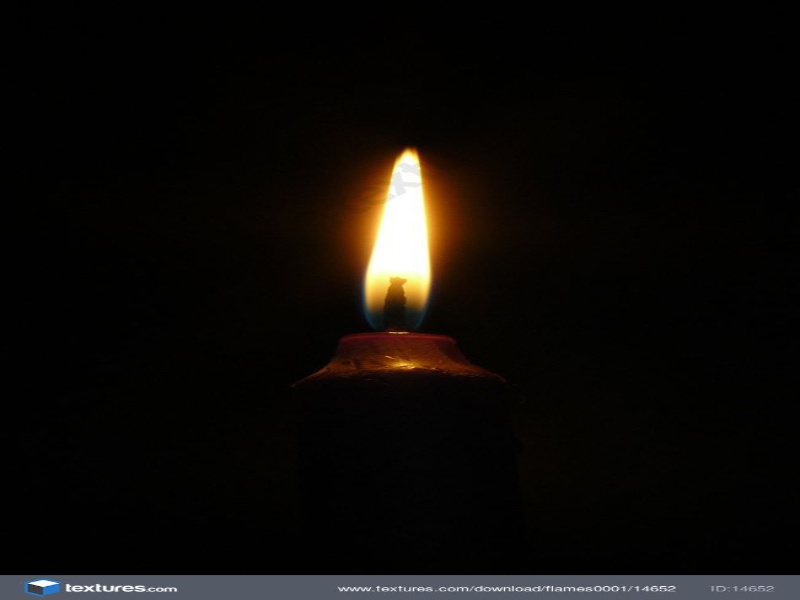fire: (365, 148, 434, 310)
